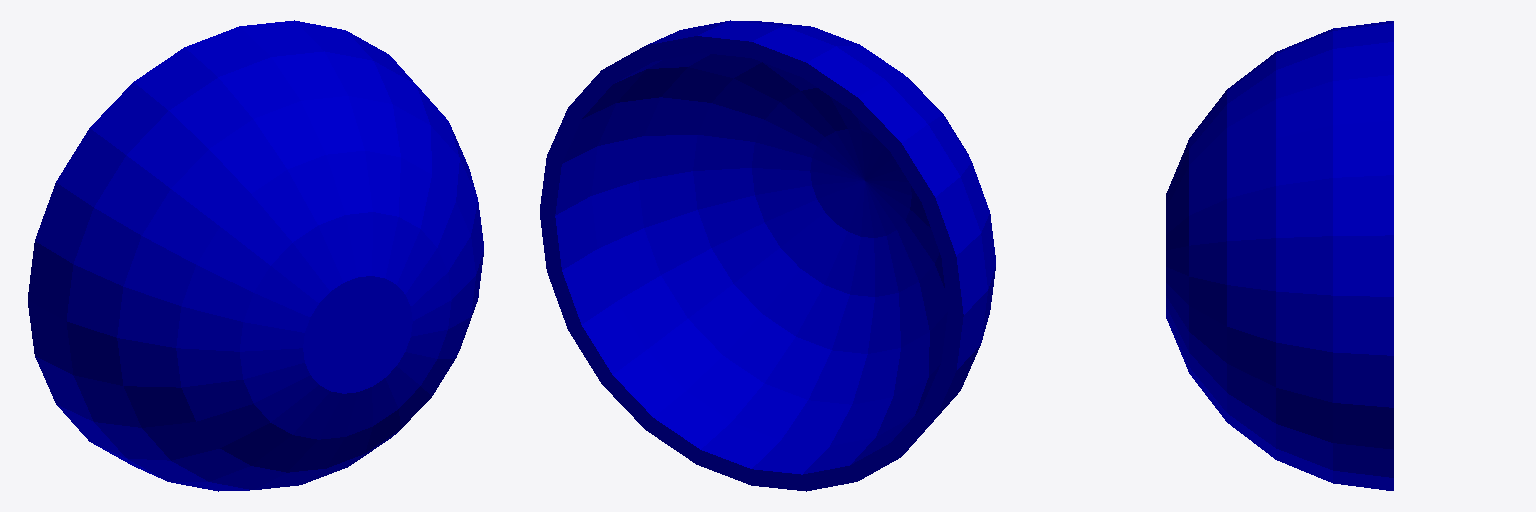
The robot description file, URDF, robot "model_normalized":
<?xml version="1.0"?>
    <robot name="model_normalized">
      <link name="base_link">
        <visual>
          <geometry>
            <mesh filename="model_normalized.obj"/>
          </geometry>
          <material name="blue">
            <color rgba="0 0 .8 1"/>
          </material>
        </visual>
        <collision>
          <geometry>
            <mesh filename="model_normalized_vhacd.obj"/>
          </geometry>
        </collision>
        <inertial>
          <origin rpy="0 0 0" xyz="0.0025959380035556565 0.015212262320698167 0.0012625934655915933"/>
          <mass value="0.05140972137451172"/>
          <inertia ixx="0.0021713868904626025" ixy="-1.9994683102913833e-06" ixz="-1.4584497720641209e-05" iyy="0.0034348232139370066" iyz="-4.524599869693581e-06" izz="0.002170991925689248"/>
        </inertial>
      </link>
    </robot>

--- Render facts (derived) ---
Views: 3 orthographic renders of the robot side by side, from view 1: azimuth 30°, elevation 25°; view 2: azimuth 150°, elevation 25°; view 3: azimuth 270°, elevation 25°.
Robot: model_normalized — 1 links, 0 joints (none); root link base_link; default pose: every joint at zero.
Links seen in each view (by area): view 1: base_link; view 2: base_link; view 3: base_link.
Boxes of the visible links, <box> form: base_link: <box>28,20,483,491</box>; base_link: <box>540,20,995,491</box>; base_link: <box>1166,21,1393,490</box>.
Bounding box of the posed robot: 0.6692 × 0.3232 × 0.6692 m (x, y, z).
1 mesh visuals loaded from 1 distinct referenced files (1 OBJ).